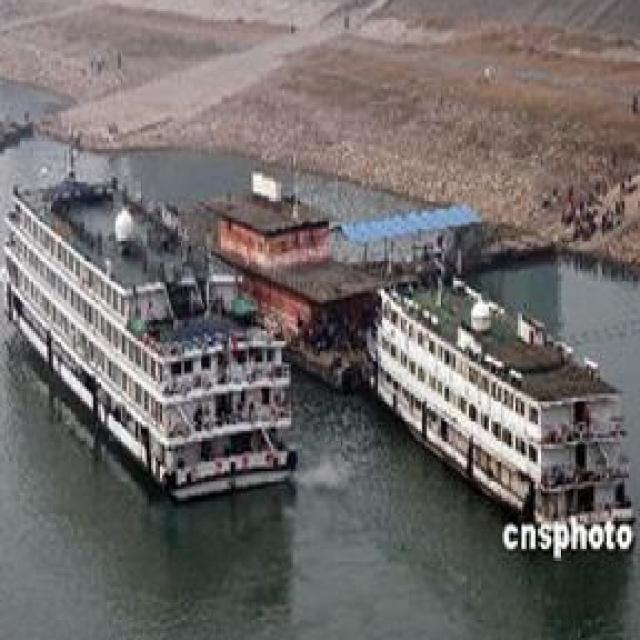passenger ship: (0, 173, 296, 487), (366, 254, 636, 537)
